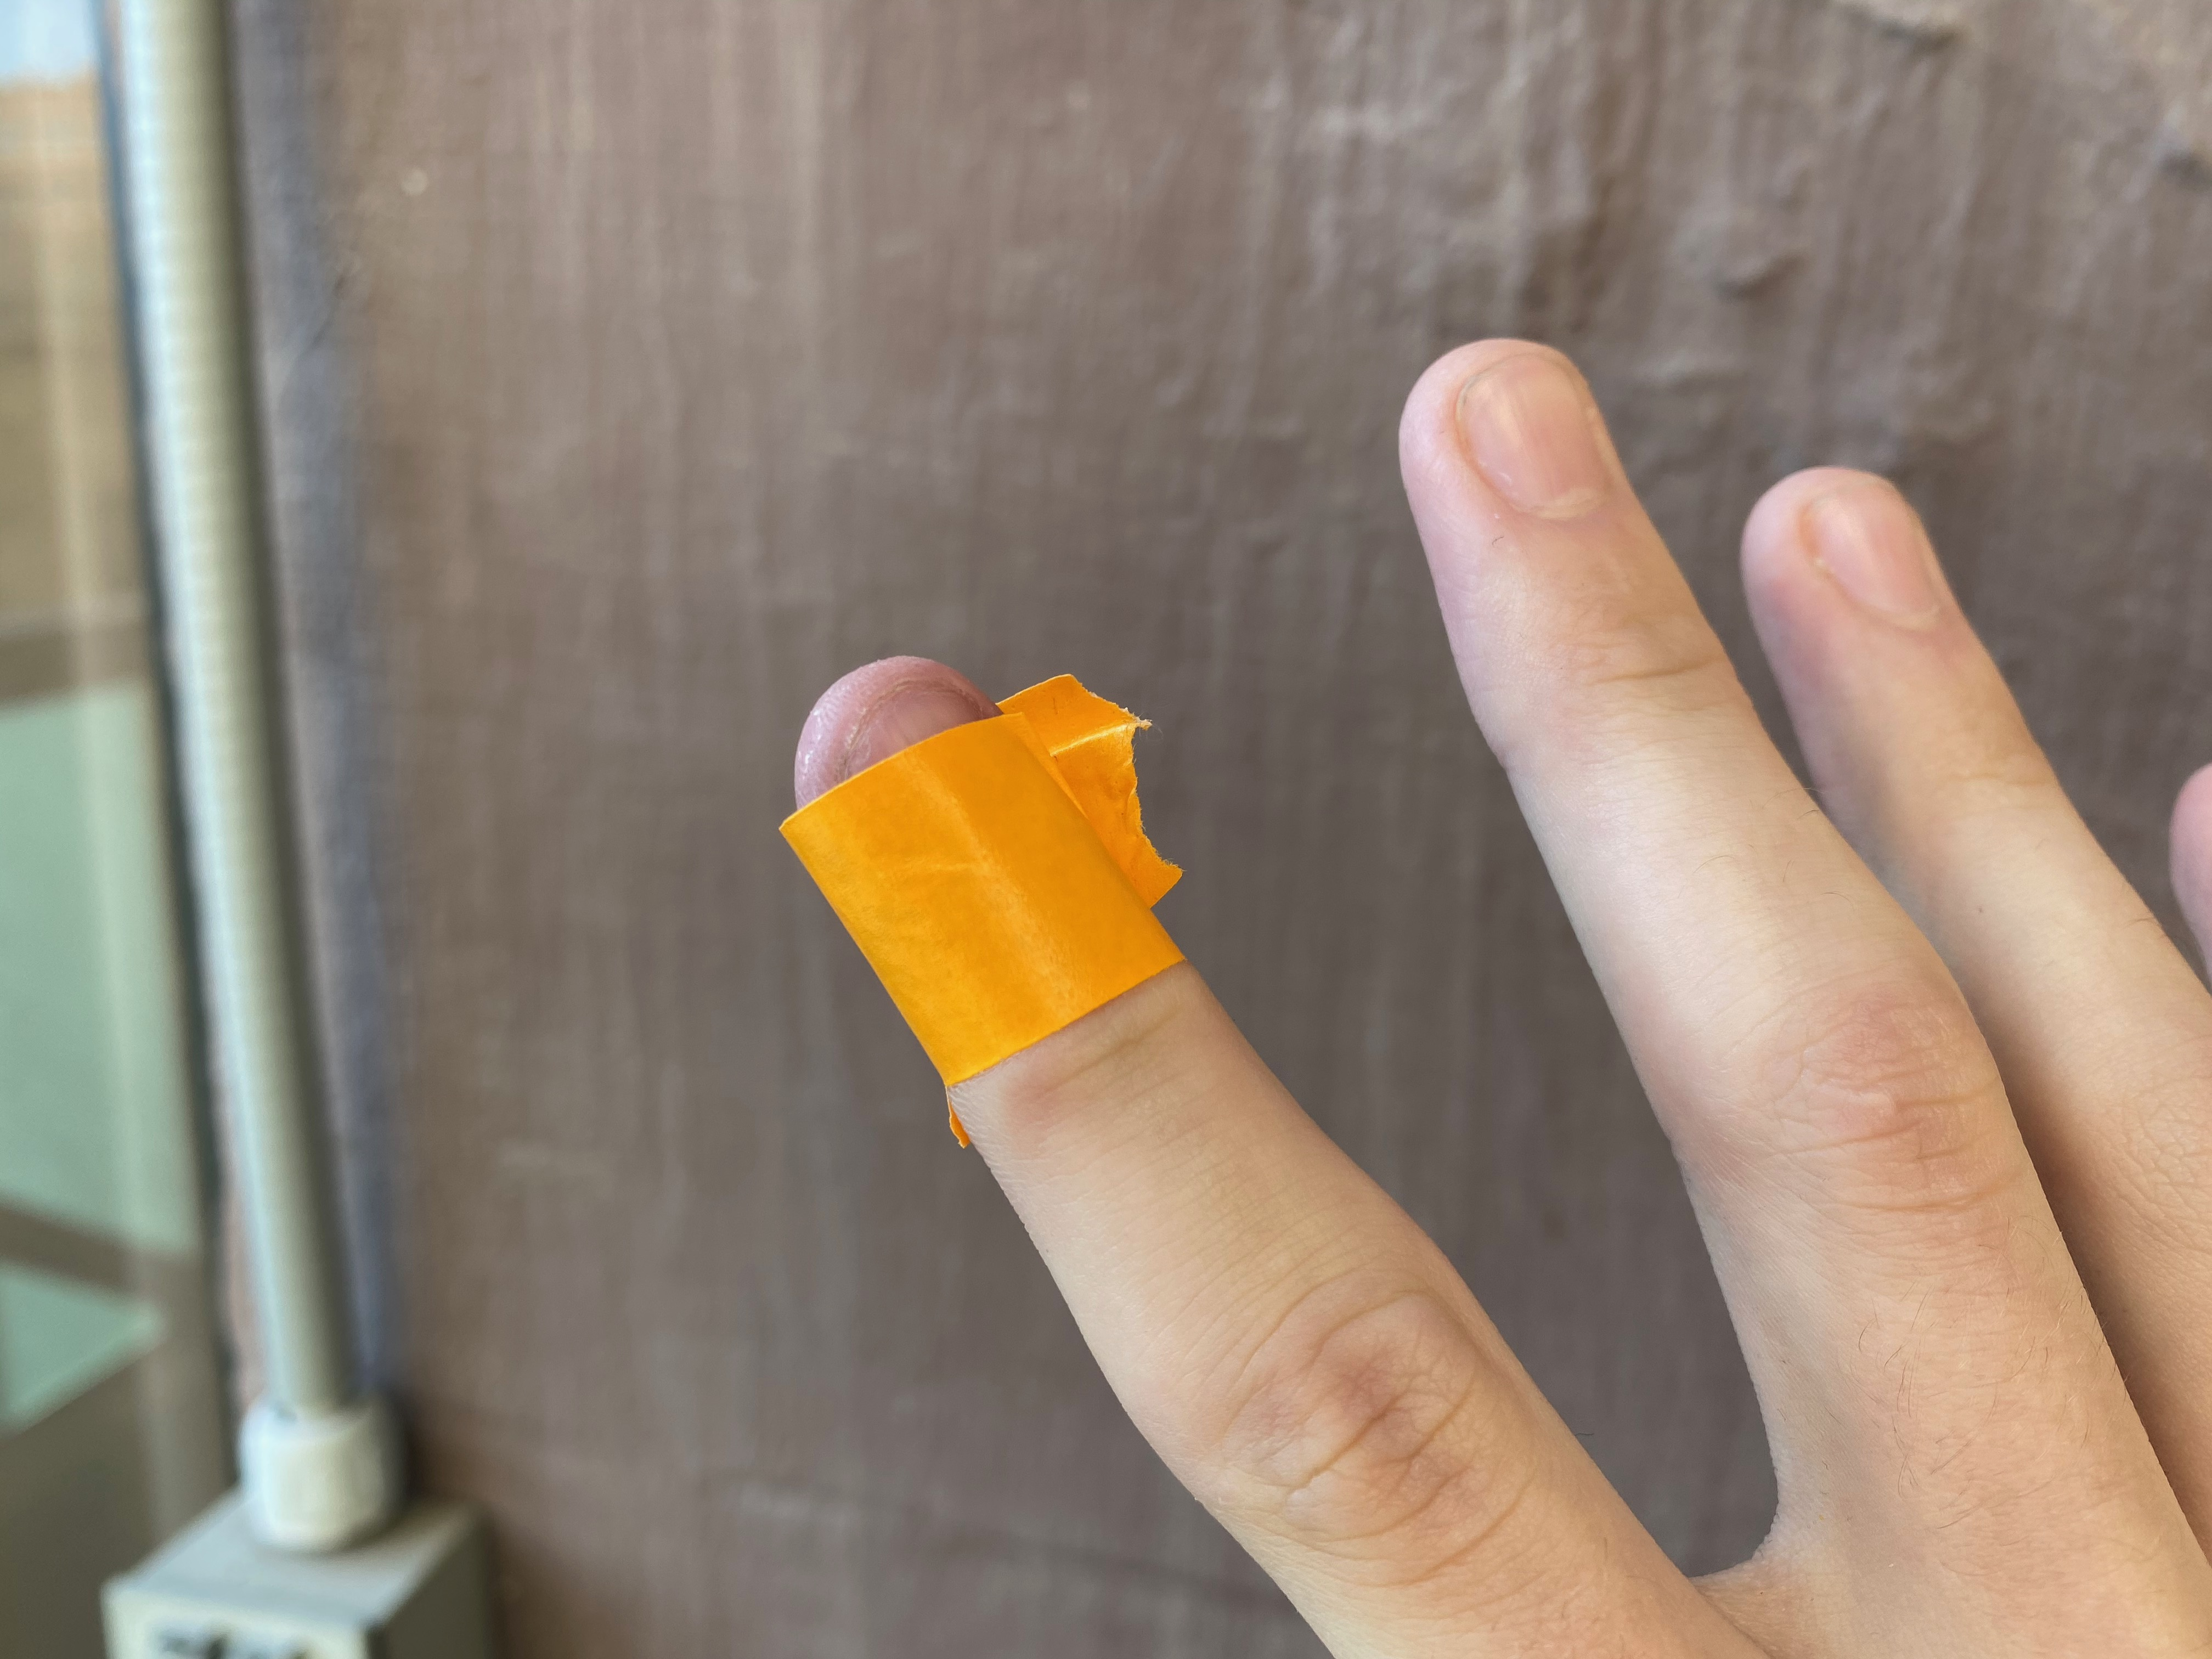fingertip: (761, 612, 1211, 1110)
